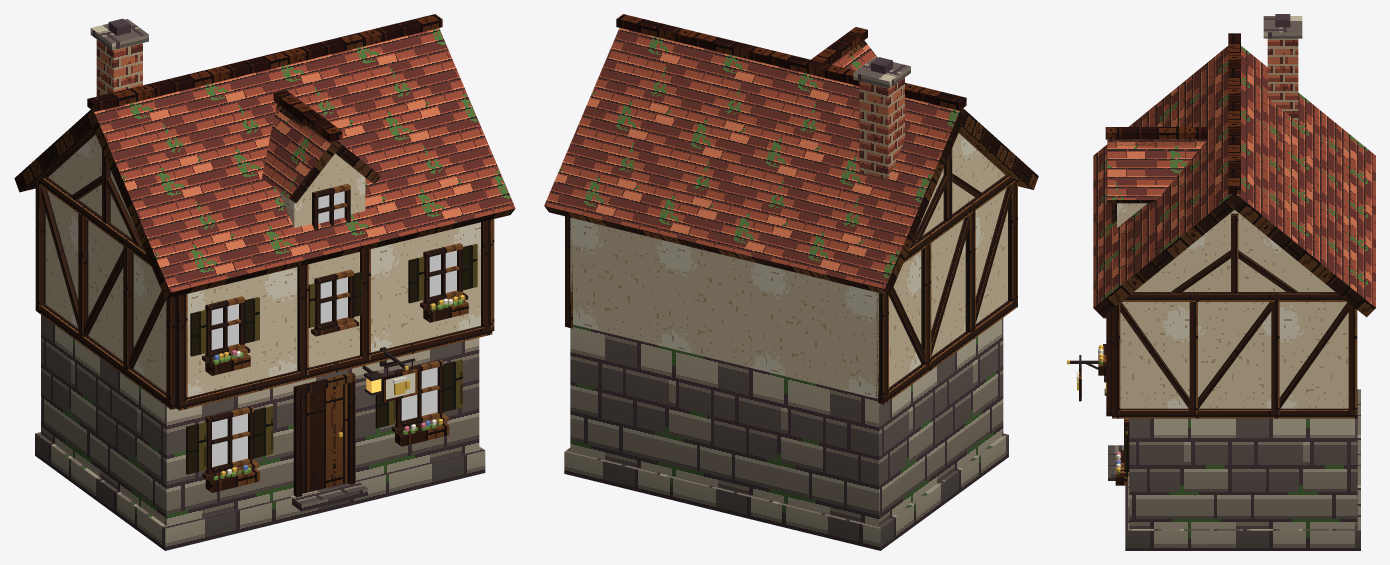
Rendered from inn.glb.
The picture shows the model from 3 angles, left to right: view 1: azimuth 30°, elevation 25°; view 2: azimuth 150°, elevation 25°; view 3: azimuth 270°, elevation 25°; orthographic projection. The views are drawn at different scales.
Visible parts, largest first — view 1: inn; view 2: inn; view 3: inn.
Boxes of the visible parts, box(x1,y1,x2,y2) form: inn: box(14, 14, 515, 550); inn: box(544, 14, 1038, 550); inn: box(1067, 14, 1375, 550).
Bounding box in the file's own units: 7.34 × 9.15 × 6.24.
Materials: 8 (5 with a texture image).
